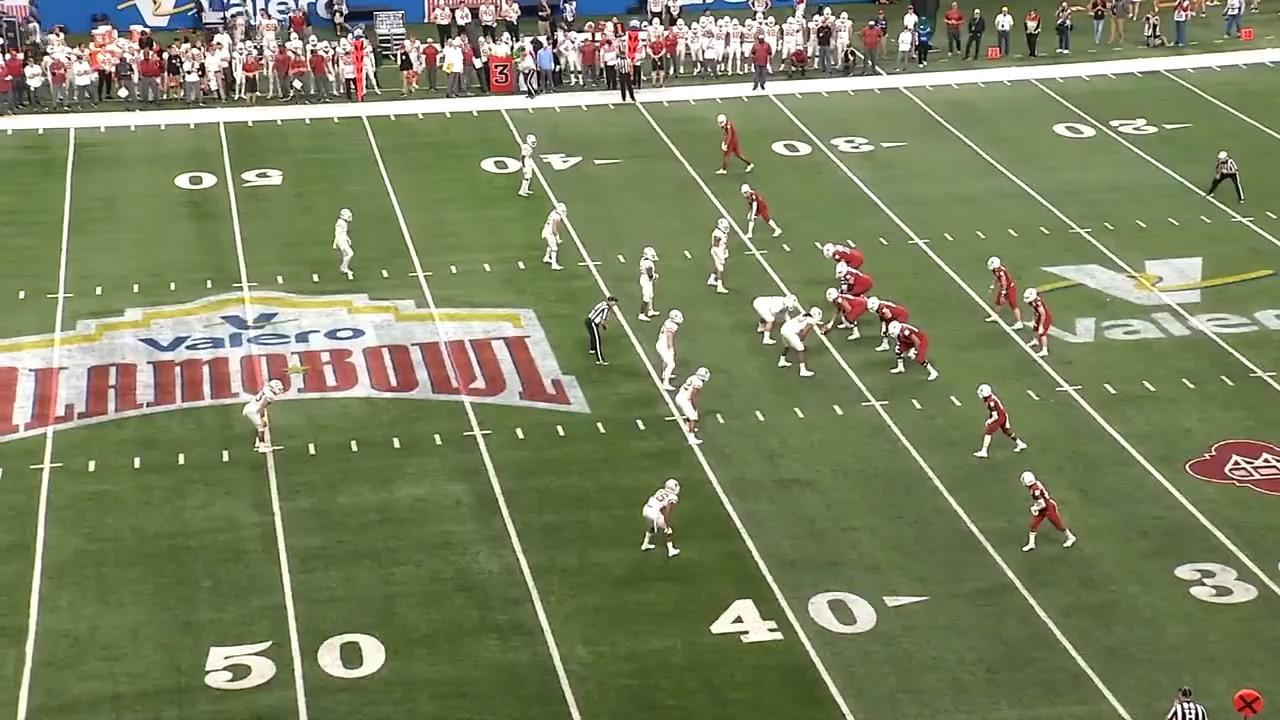player: (1019, 468, 1083, 559), (968, 378, 1029, 461), (638, 476, 686, 563), (775, 304, 820, 380), (890, 319, 941, 382), (241, 379, 283, 455), (711, 110, 754, 177), (678, 367, 714, 446), (986, 256, 1023, 332), (742, 182, 786, 241), (754, 293, 802, 347), (1024, 284, 1058, 359), (659, 309, 689, 393), (870, 296, 913, 352), (706, 217, 735, 299), (826, 288, 871, 340), (541, 202, 571, 273), (332, 205, 360, 281), (641, 245, 666, 324), (518, 130, 545, 198), (823, 239, 867, 273), (837, 265, 876, 299)
ref: (1203, 149, 1244, 207), (583, 295, 615, 367), (1166, 684, 1212, 720), (617, 46, 641, 104)
